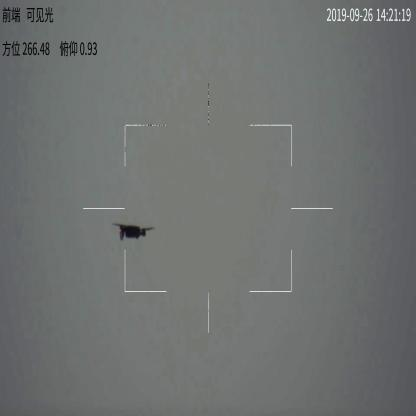uav: (110, 217, 154, 245)
